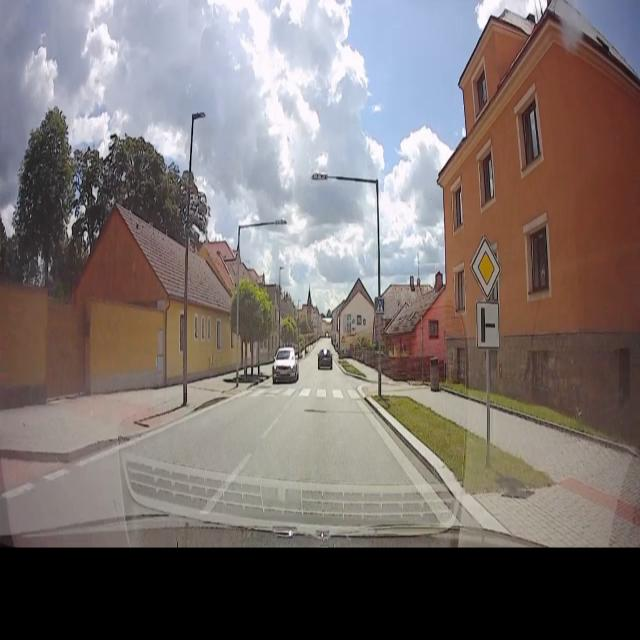Pedestrian crosswalk: (239, 383, 359, 404), (373, 291, 386, 318)
